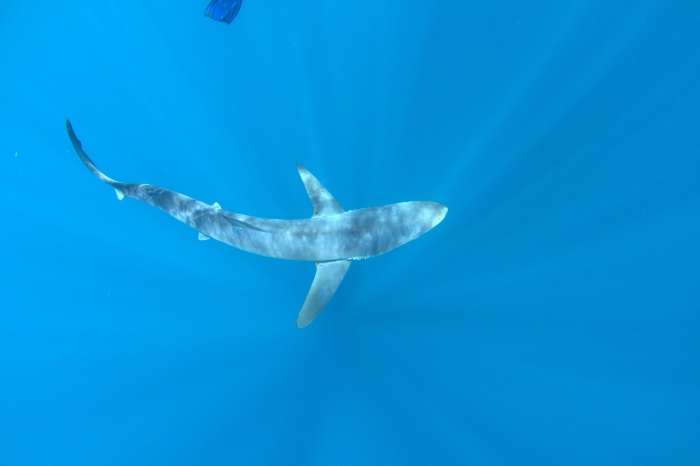Azul: (58, 109, 457, 341)
